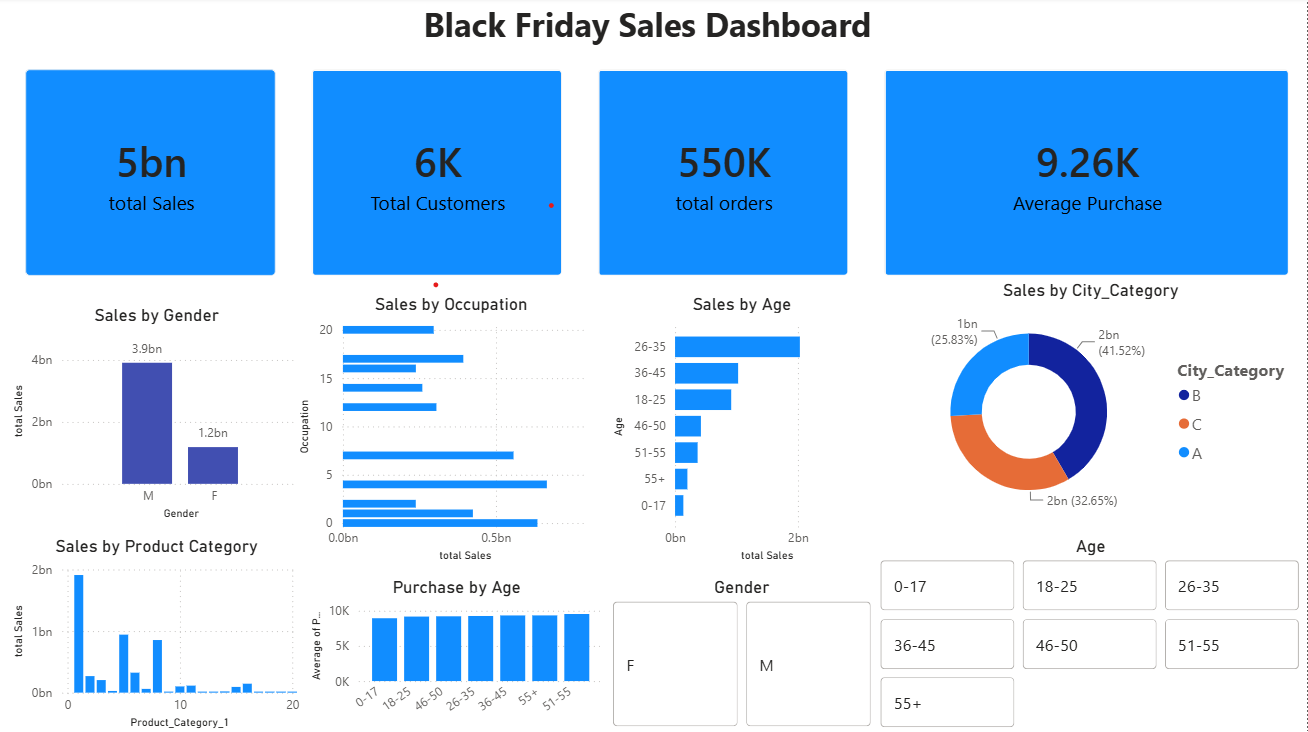

What the dashboard file says about the page in this screenshot:
{"tool":"powerbi","page":{"name":"Page 1","canvas":[1280,720],"ordinal":0},"visuals":[{"type":"cardVisual","fields":{"Data":["train.Average Purchase"]},"box":[849.4,53.5,430.9,236],"z":0},{"type":"cardVisual","fields":{"Data":["train.Total Customers"]},"box":[289.5,53.5,279.9,236],"z":1000},{"type":"cardVisual","fields":{"Data":["train.total orders"]},"box":[569.5,53.5,279.9,236],"z":2000},{"type":"cardVisual","fields":{"Data":["train.total Sales"]},"box":[9.6,53.5,279.9,236],"z":3000},{"type":"clusteredColumnChart","title":"Sales by Gender","fields":{"Category":["train.Gender"],"Y":["train.total Sales"]},"box":[9.6,300.5,290.9,215.4],"z":4000},{"type":"clusteredBarChart","title":"Sales by Age","fields":{"Y":["train.total Sales"],"Category":["train.Age"]},"box":[596.9,289.5,262.1,267.6],"z":5000},{"type":"donutChart","title":"Sales by City_Category","fields":{"Category":["train.City_Category"],"Y":["train.total Sales"]},"box":[859,275.8,421.3,240.1],"z":6000},{"type":"textbox","box":[0,0,1270.7,53.5],"z":7000},{"type":"clusteredBarChart","title":"Sales by Occupation","fields":{"Y":["train.total Sales"],"Category":["train.Occupation"]},"box":[289.5,289.5,307.4,267.6],"z":8000},{"type":"clusteredColumnChart","title":"Sales by Product Category","fields":{"Category":["train.Product_Category_1"],"Y":["train.total Sales"]},"box":[9.6,526.9,290.9,193.5],"z":9000},{"type":"clusteredColumnChart","title":"Purchase by Age","fields":{"Y":["Avg(train.Purchase)"],"Category":["train.Age"]},"box":[301,568,296,152],"z":10000},{"type":"advancedSlicerVisual","fields":{"Values":["train.Gender"]},"box":[597,568,262,152],"z":10001},{"type":"advancedSlicerVisual","fields":{"Values":["train.Age"]},"box":[859,526.9,421.3,193.5],"z":10002}]}

Visuals, with their boxes in screenshot pixels (x1, y1, x2, y2), scaled from the page's 1280x720 canvas onto the 1308x732 screenshot:
cardVisual - train.Average Purchase: (left=868, top=54, right=1307, bottom=294)
cardVisual - train.Total Customers: (left=296, top=54, right=582, bottom=294)
cardVisual - train.total orders: (left=582, top=54, right=868, bottom=294)
cardVisual - train.total Sales: (left=10, top=54, right=296, bottom=294)
"Sales by Gender" clusteredColumnChart: (left=10, top=306, right=307, bottom=524)
"Sales by Age" clusteredBarChart: (left=610, top=294, right=878, bottom=566)
"Sales by City_Category" donutChart: (left=878, top=280, right=1307, bottom=524)
textbox: (left=0, top=0, right=1298, bottom=54)
"Sales by Occupation" clusteredBarChart: (left=296, top=294, right=610, bottom=566)
"Sales by Product Category" clusteredColumnChart: (left=10, top=536, right=307, bottom=731)
"Purchase by Age" clusteredColumnChart: (left=308, top=577, right=610, bottom=731)
advancedSlicerVisual - train.Gender: (left=610, top=577, right=878, bottom=731)
advancedSlicerVisual - train.Age: (left=878, top=536, right=1307, bottom=731)
